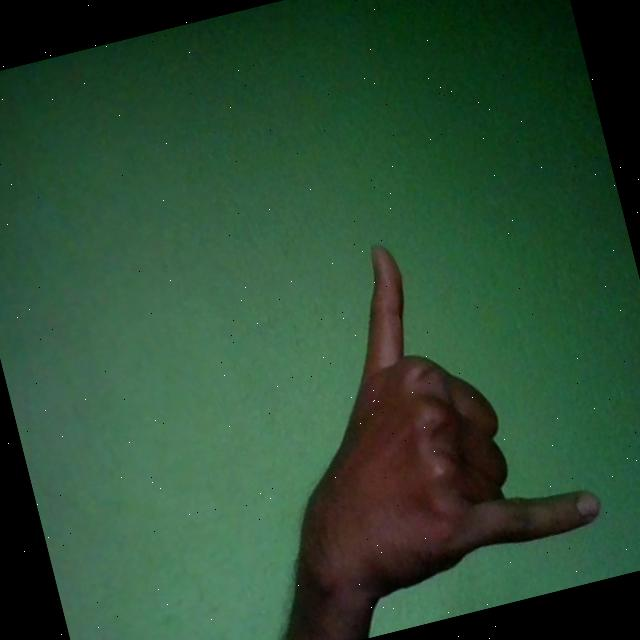Call Me: (214, 205, 610, 622)
